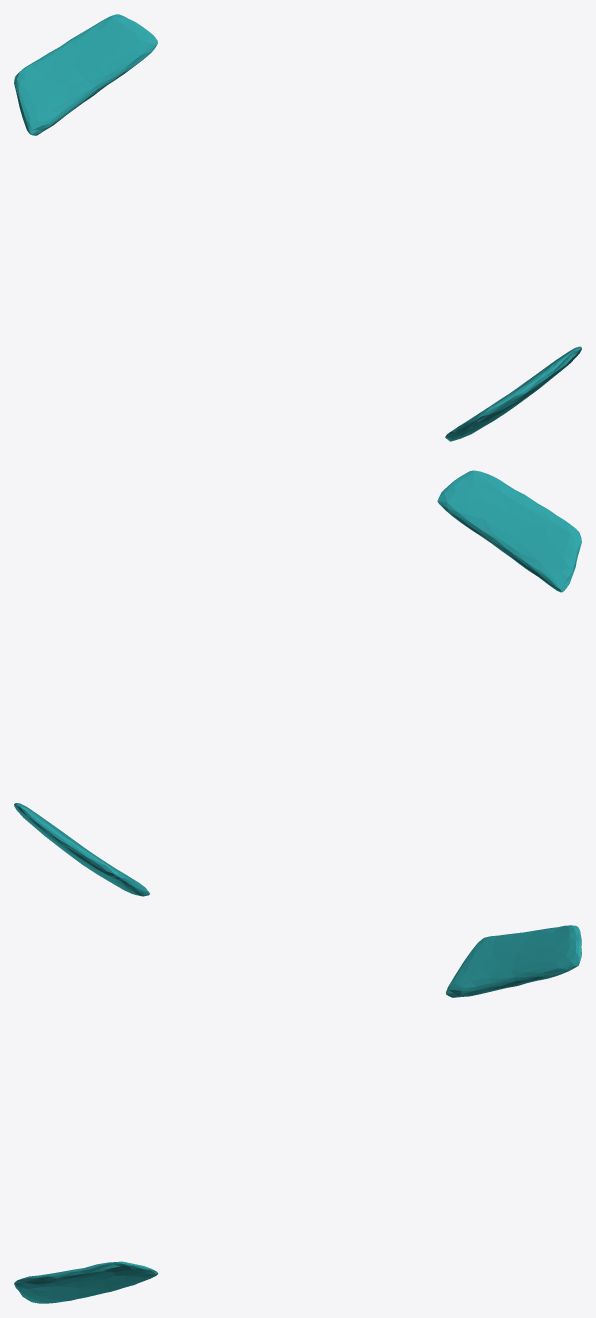
3 views of the same model, one above another, from view 1: azimuth 30°, elevation 25°; view 2: azimuth 150°, elevation 25°; view 3: azimuth 330°, elevation 25° (orthographic).
Visible parts, largest first — view 1: 573.obj; view 2: 573.obj; view 3: 573.obj.
Boxes of the visible parts, x1,y1,x2,y2 form: 573.obj: (14, 14, 581, 441); 573.obj: (14, 470, 581, 896); 573.obj: (14, 925, 581, 1303).
Bounding box in the file's own units: 1239 × 734 × 7684.
